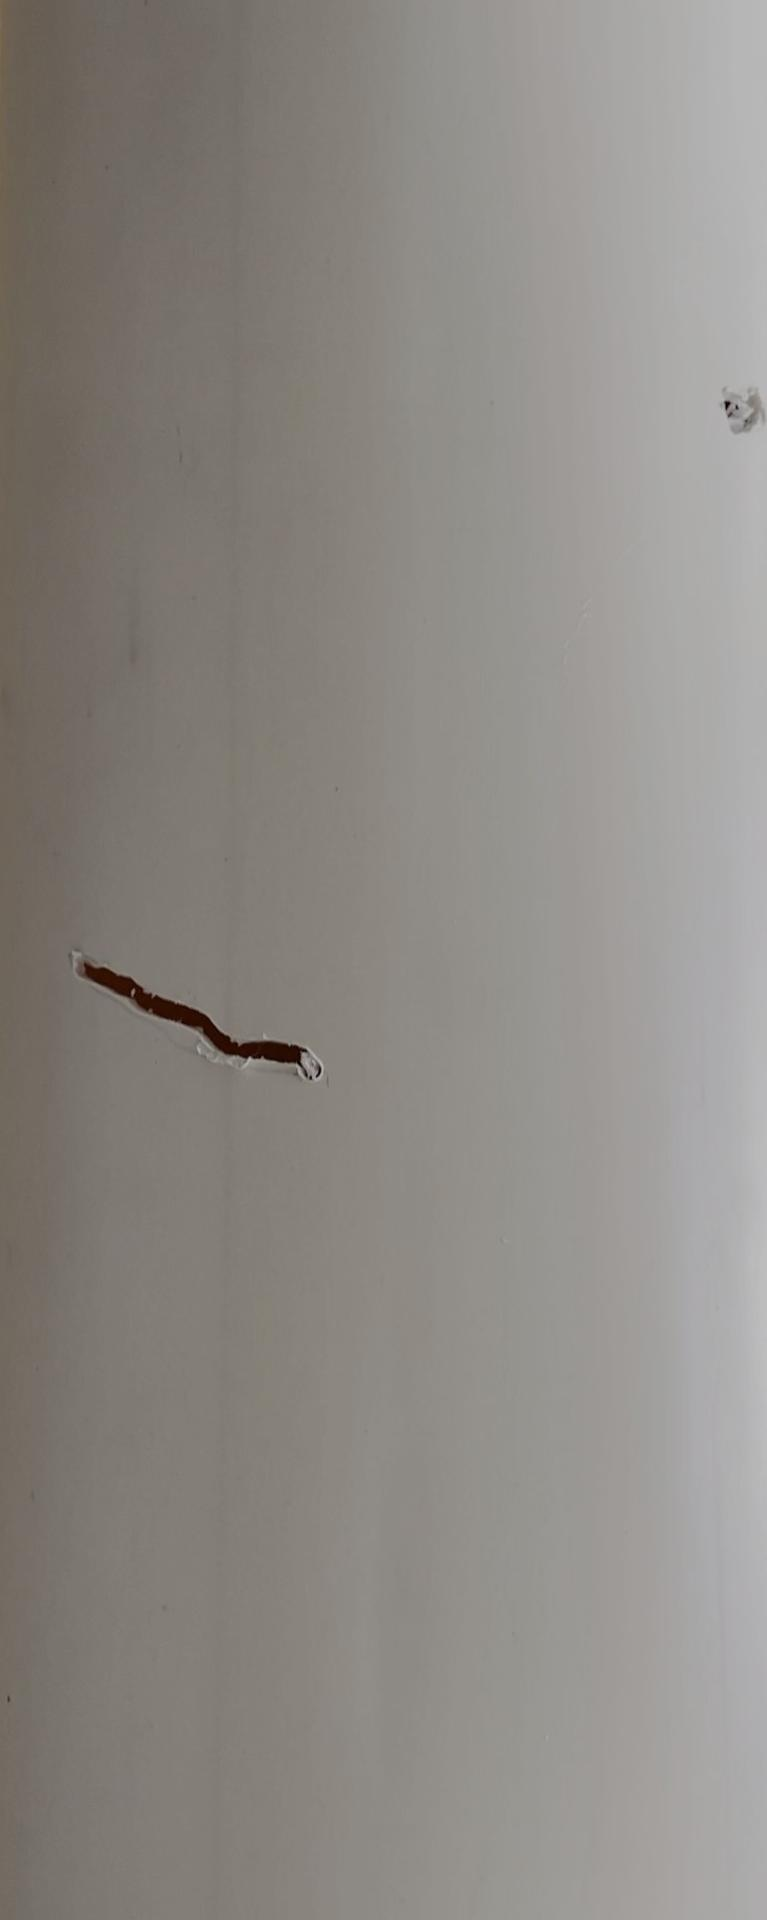fengxi: (58, 938, 349, 1100)
kongdong: (717, 367, 767, 442)
